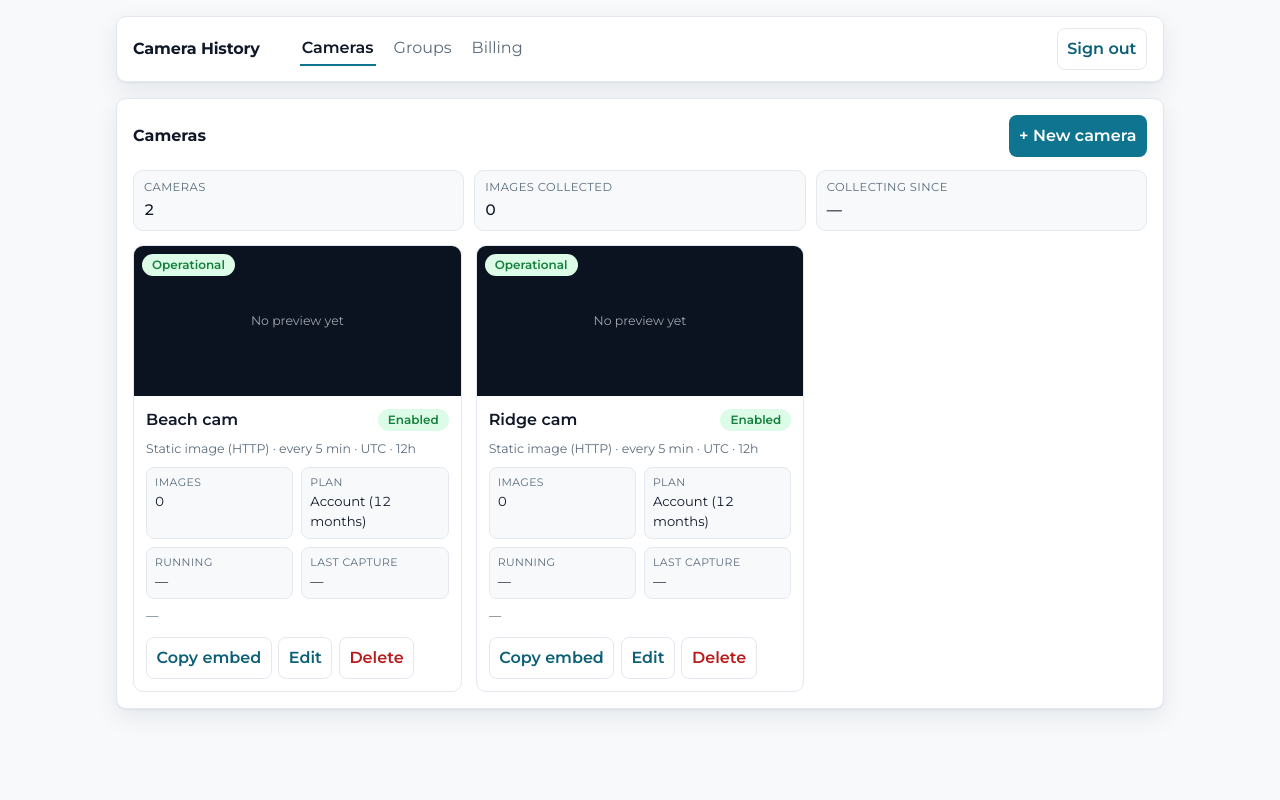
Test: App groups › shows an ordered group overview with camera chips
Check: the heading "Beach cam" is shown, box [146,408,238,432]
Click the link with test id "nav-groups": (423, 48) [394,38,452,57]
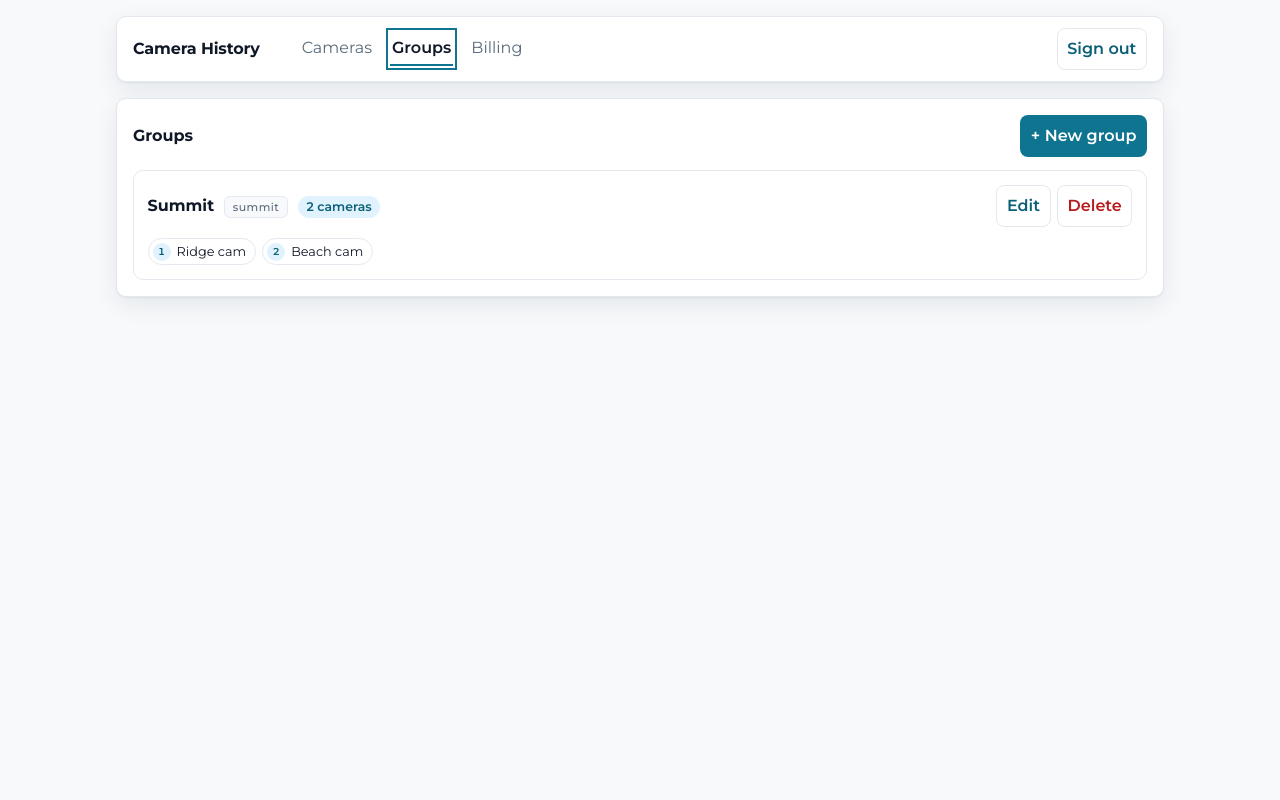
Check: the element with test id "groups-view" is shown, box [116,98,1164,297]
Check: the list item with test id "group-grp-1" shows "Summit", box [148,196,214,214]
Check: the text with test id "group-count-grp-1" reads "2 cameras", box [307,198,372,214]
